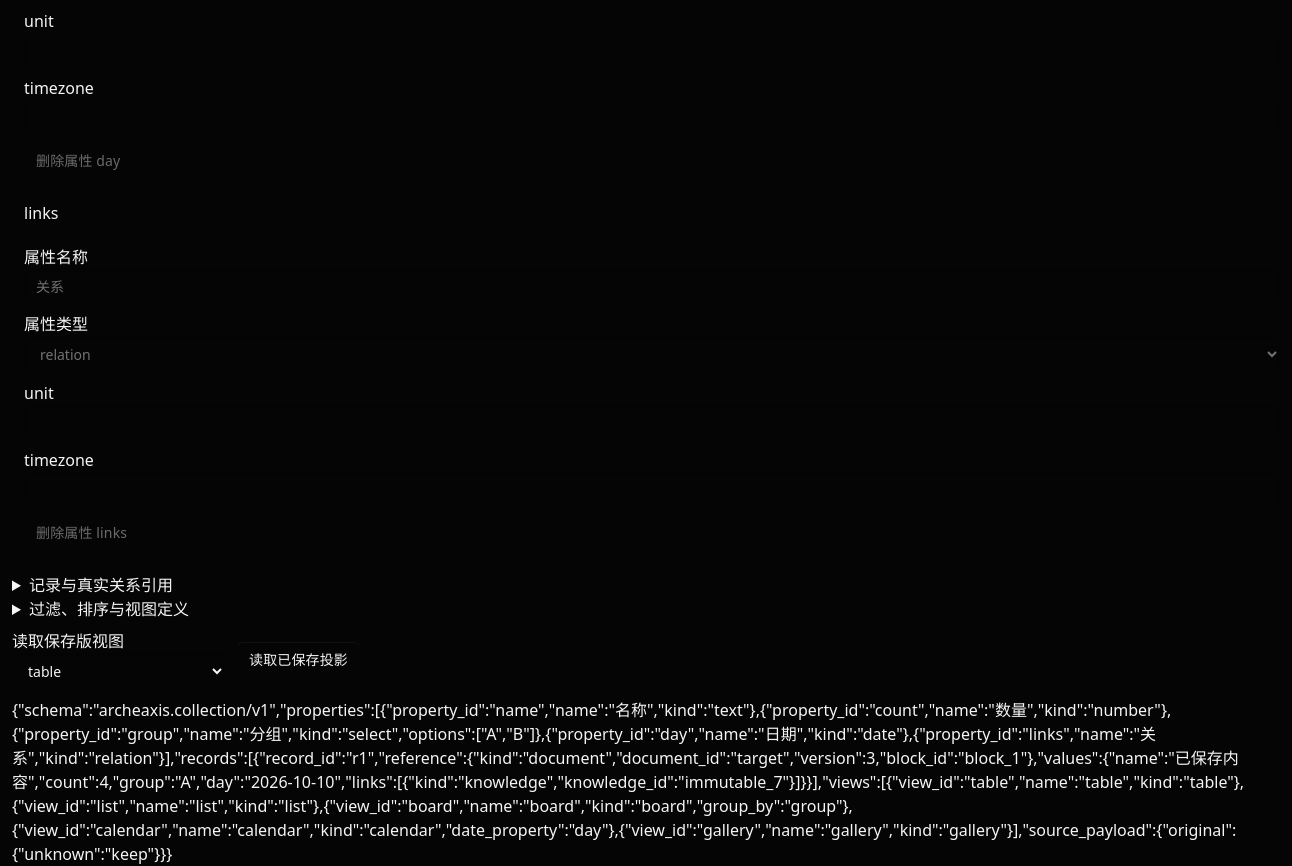
Scenario: readonly prevents CRUD but permits read-only Core query
(page scrolled)
Click the button "读取已保存投影" at x=298, y=659, box x1=237 y1=642 x2=360 y2=676
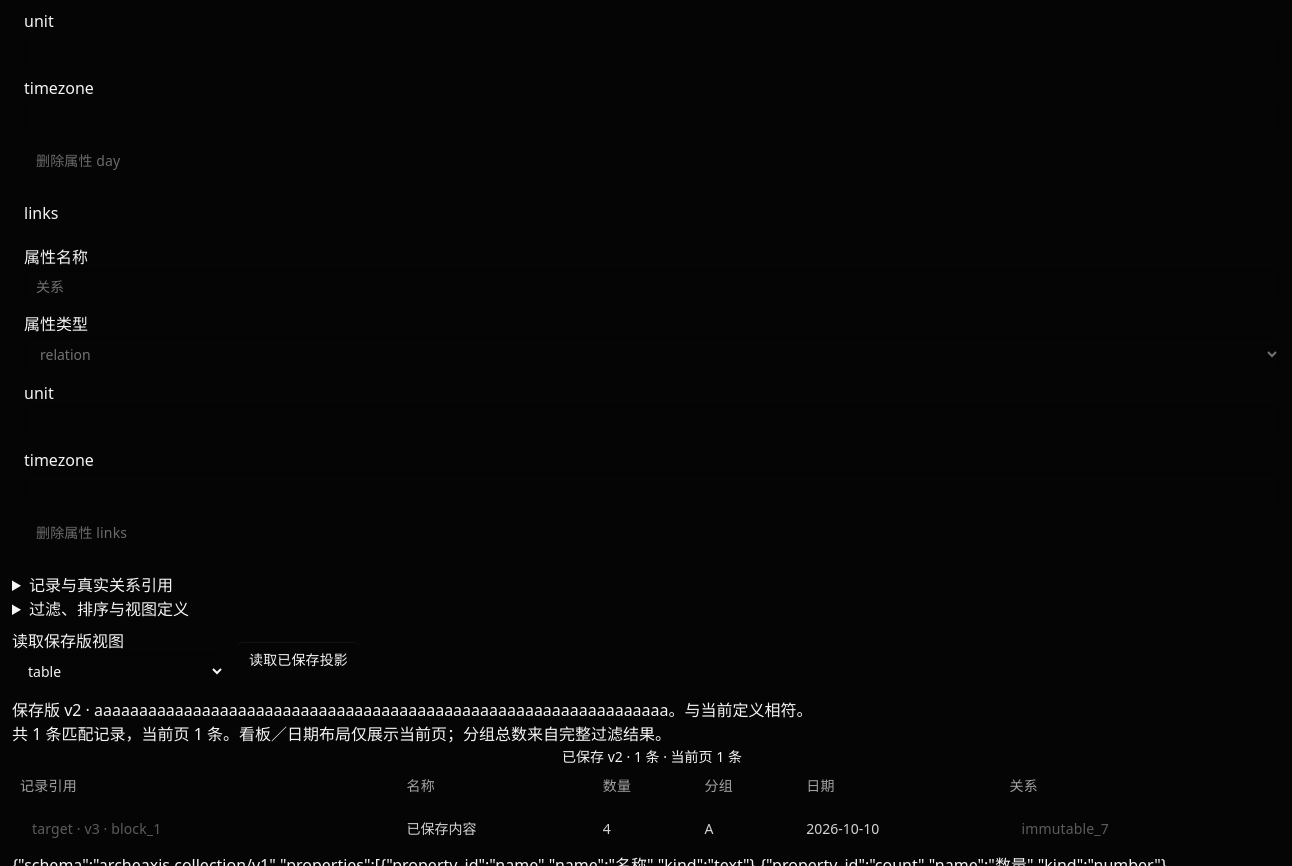
Result: the table is shown at x1=12 y1=746 x2=1291 y2=852
